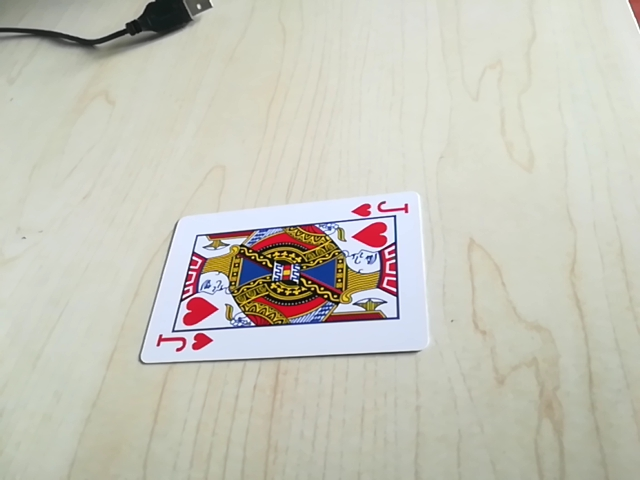hx j: (149, 329, 216, 358), (351, 196, 411, 221)
